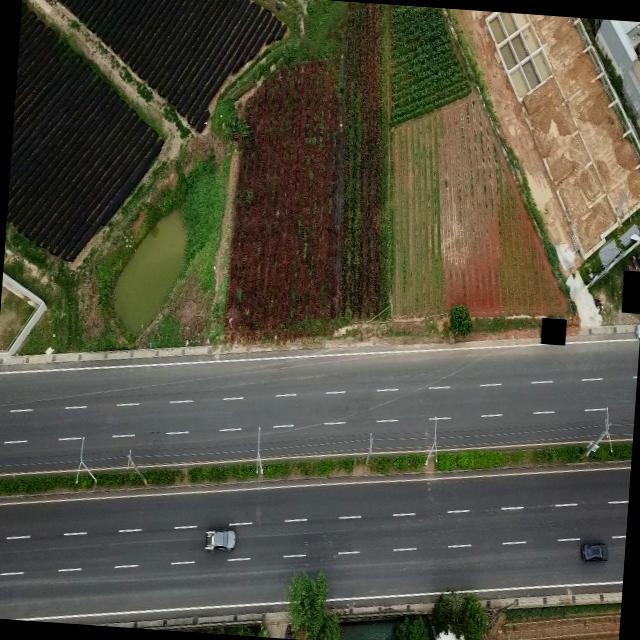car: (202, 528, 235, 554), (580, 538, 608, 566)
